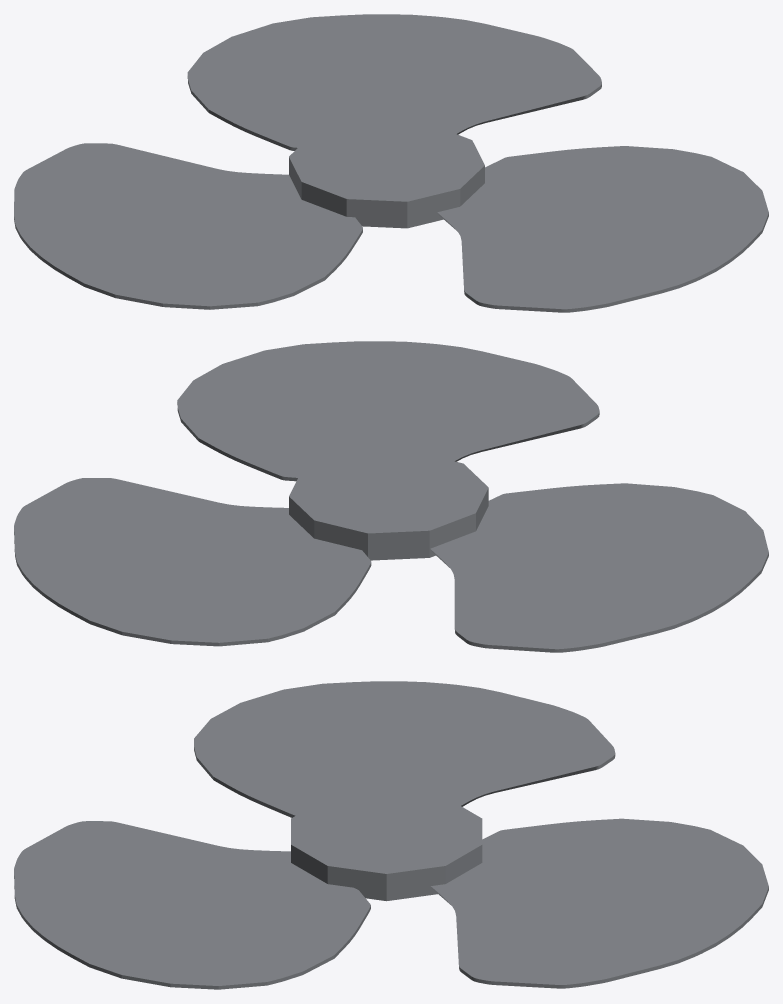
Rendered from Fan Model.fbx.
3 views of the same model, one above another, from view 1: azimuth 30°, elevation 25°; view 2: azimuth 150°, elevation 25°; view 3: azimuth 270°, elevation 25° (orthographic).
Parts seen in each view (by area): view 1: Fan_center1; view 2: Fan_center1; view 3: Fan_center1.
Boxes of the visible parts, x1,y1,x2,y2 form: Fan_center1: (14,14,768,312); Fan_center1: (14,341,768,652); Fan_center1: (14,681,768,989).
Size of the model in its own units: 9.46 by 0.3934 by 9.9.
1 material, 1 textured.
